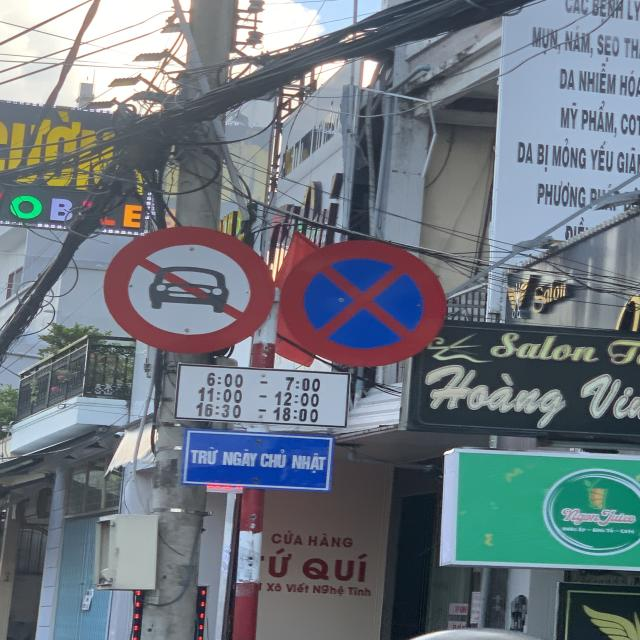Cam_Dung_Va_Dau_Xe: (283, 240, 446, 368)
Cam_O_To: (104, 226, 274, 356)
